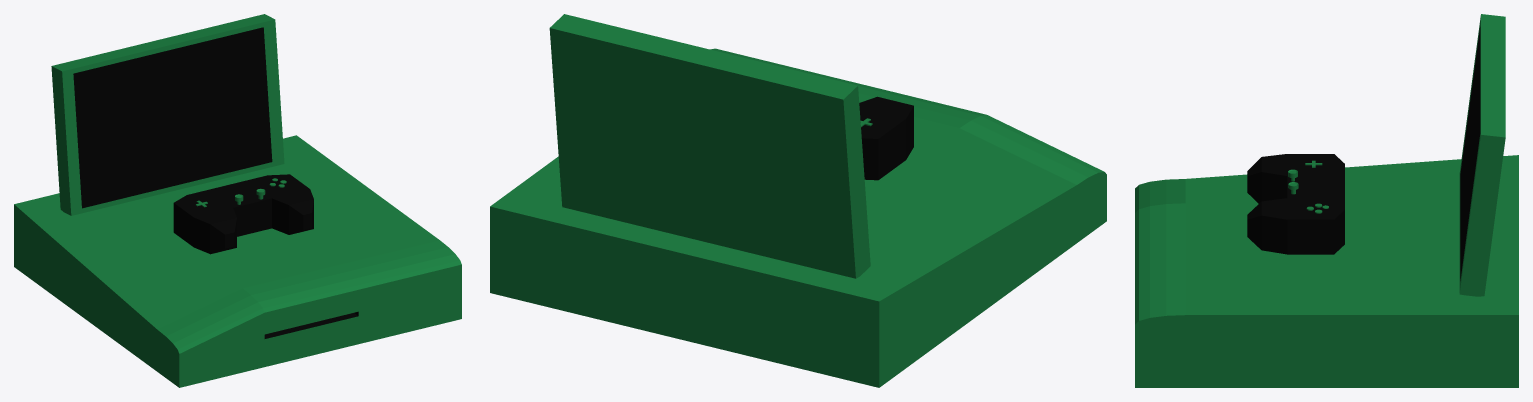
The model's file is console.fbx.
3 views of the same model, side by side, from view 1: azimuth 30°, elevation 25°; view 2: azimuth 150°, elevation 25°; view 3: azimuth 270°, elevation 25° (orthographic). The views are drawn at different scales.
Parts seen in each view (by area): view 1: Console+Contoller; view 2: Console+Contoller; view 3: Console+Contoller.
Part boxes in pixels (x1,y1,x2,y2): Console+Contoller: (14, 14, 461, 387); Console+Contoller: (490, 14, 1106, 387); Console+Contoller: (1135, 14, 1518, 387).
Size of the model in its own units: 91.17 by 61.6 by 92.39.
